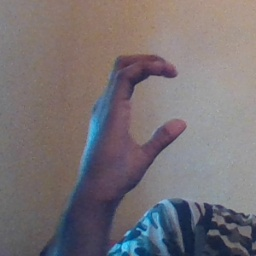C: (90, 41, 197, 162)
